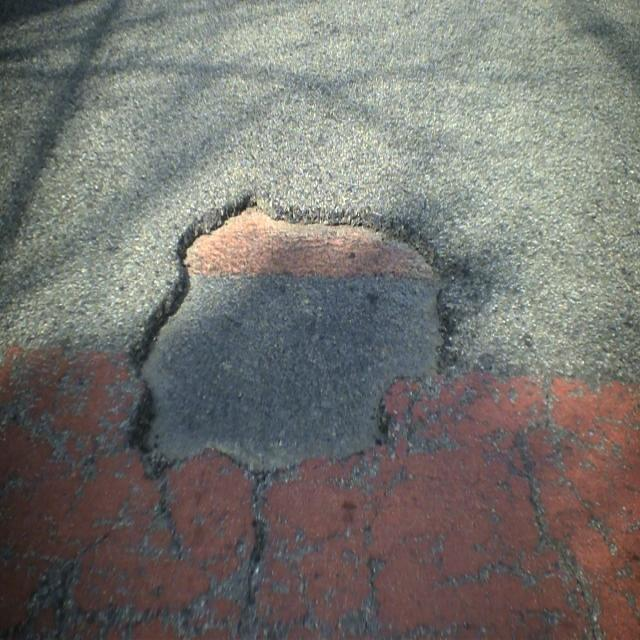Pothole: (113, 177, 478, 518)
